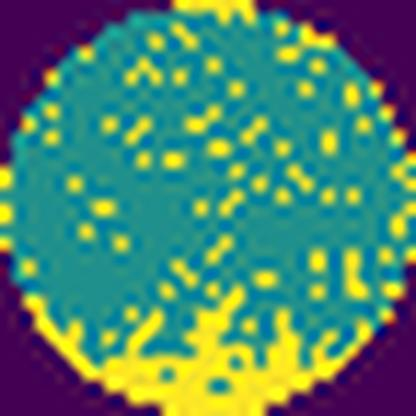Edge-Loc: (18, 279, 376, 415)
